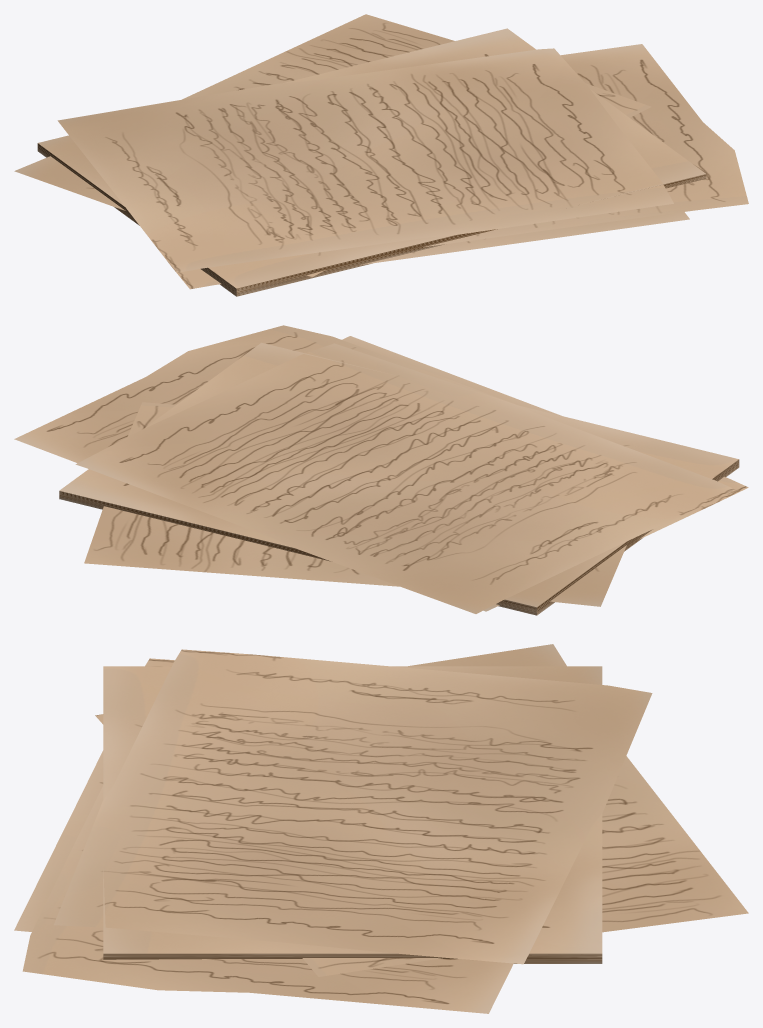
The model's file is flatpapers.FBX.
3 renders of one model, top to bottom at view 1: azimuth 30°, elevation 25°; view 2: azimuth 150°, elevation 25°; view 3: azimuth 270°, elevation 25°, orthographic. The views are drawn at different scales.
Visible parts, largest first — view 1: Box002; view 2: Box002; view 3: Box002.
Part boxes in pixels (left/top/right/bottom): Box002: left=14, top=14, right=748, bottom=296; Box002: left=14, top=325, right=748, bottom=615; Box002: left=14, top=644, right=748, bottom=1013.
Bounding box in the file's own units: 50.36 × 0.7908 × 42.42.
